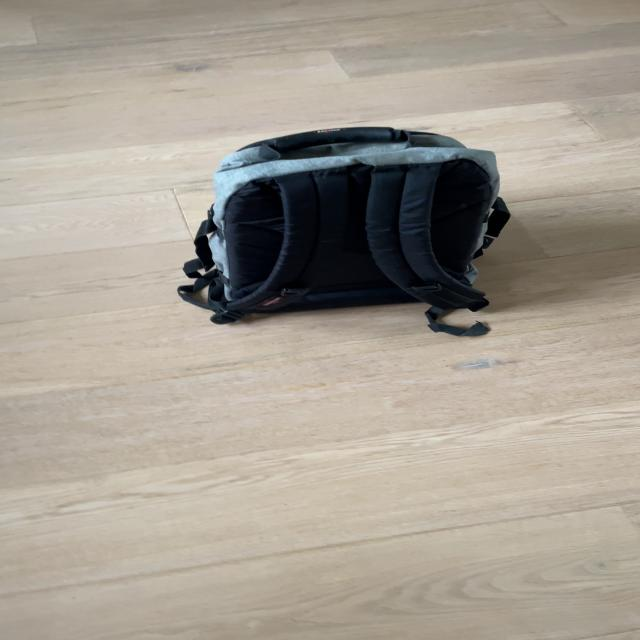backpack: (167, 117, 522, 326)
